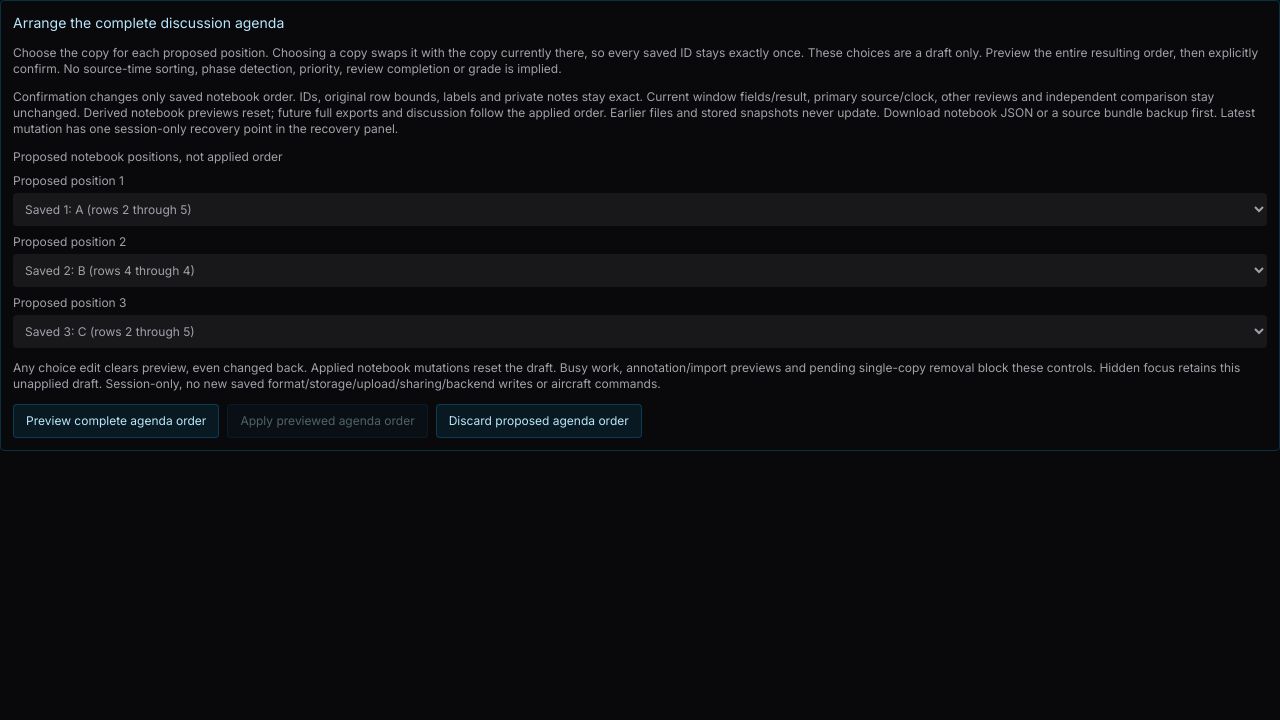
Test: complete agenda draft preview and confirmation › failed application preserves draft/preview and reports no success
Select "Saved 3: C (rows 2 through 5)" in the dropdown named "Proposed agenda position 1" at (640, 210), box x1=13 y1=193 x2=1267 y2=226
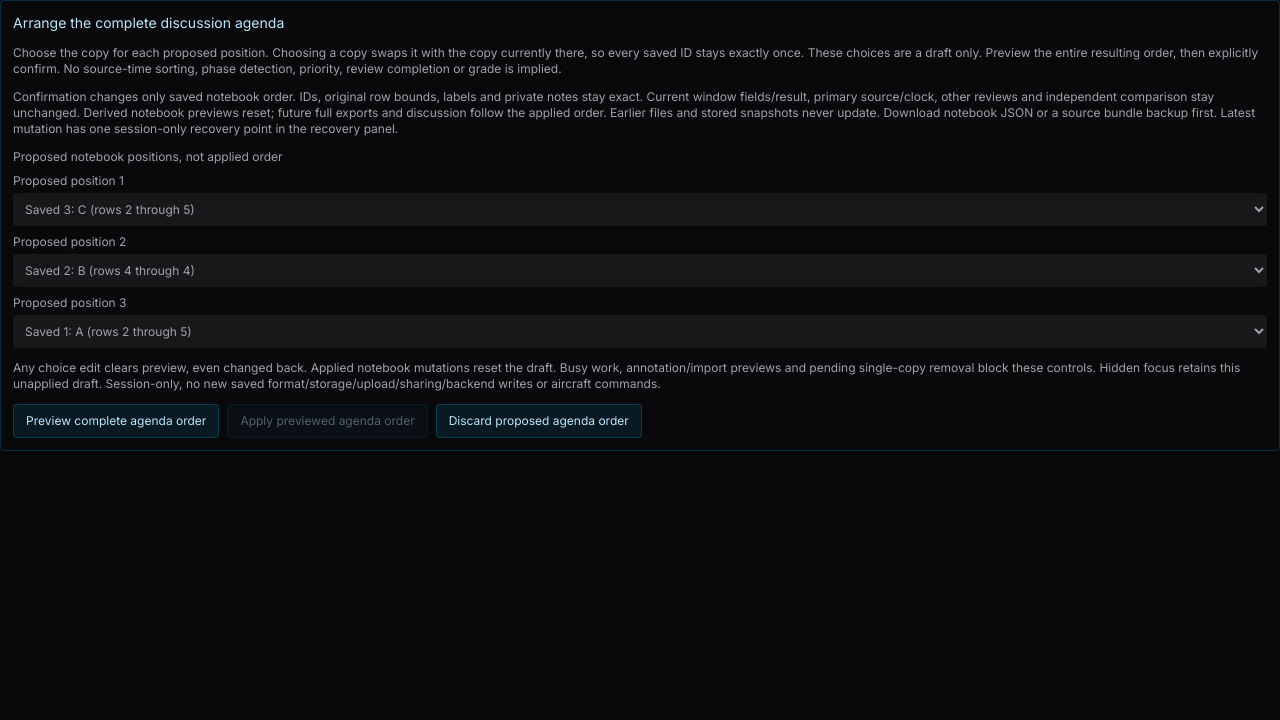
Click the button "Preview complete agenda order".
click(116, 421)  # box x1=13 y1=404 x2=219 y2=438
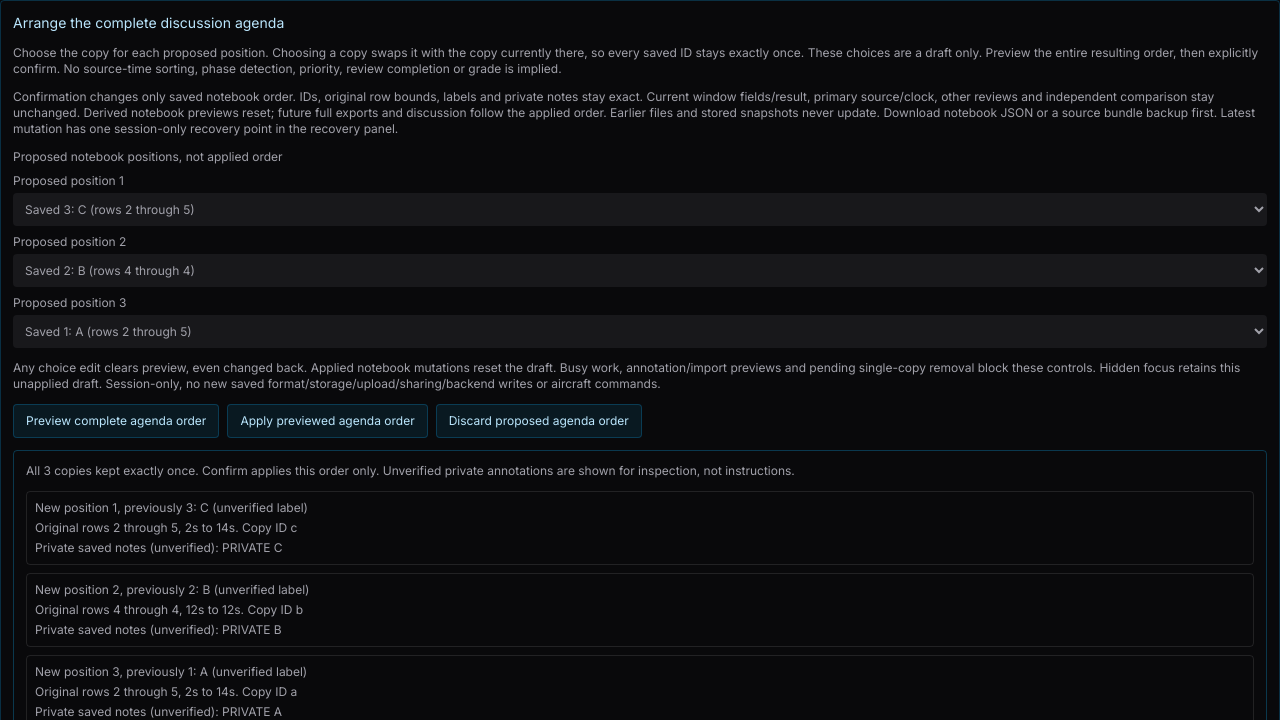
Click the button "Apply previewed agenda order".
click(328, 421)  # box x1=227 y1=404 x2=428 y2=438
(page scrolled)
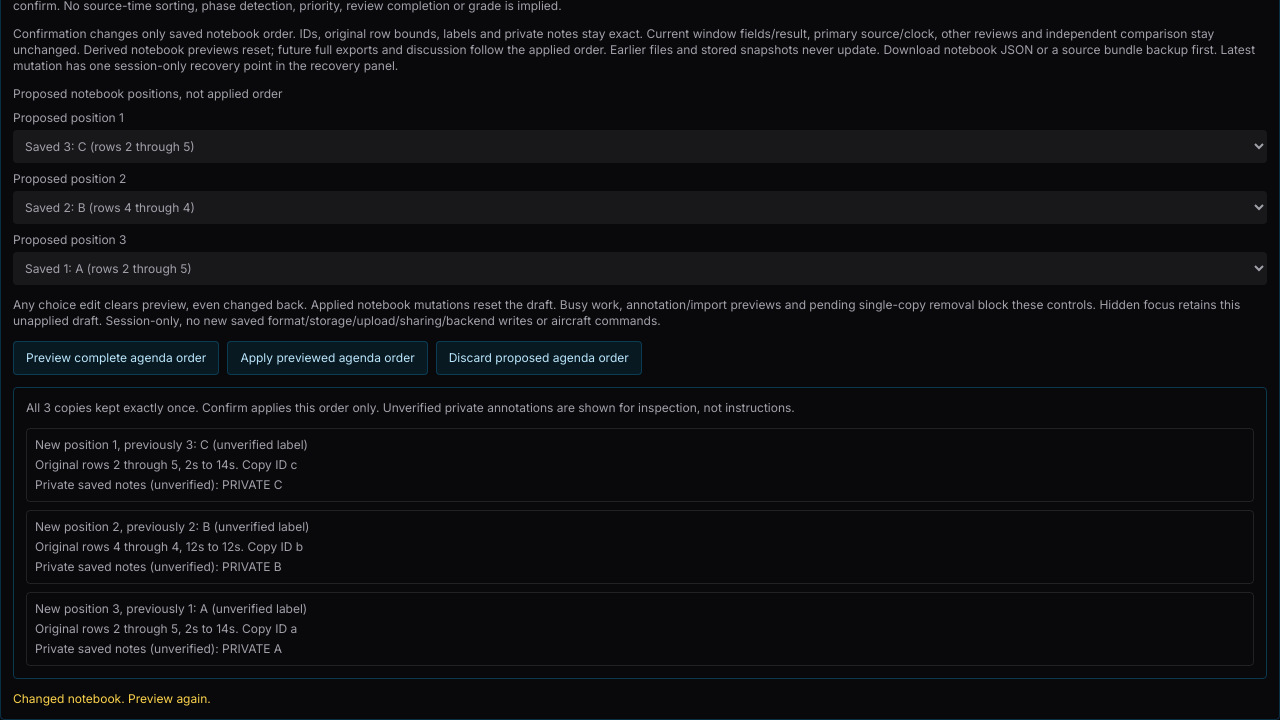
Expected: the element named "Complete agenda order preview" is shown, x1=13 y1=387 x2=1267 y2=679
Expected: the message shows "Changed notebook", x1=13 y1=691 x2=211 y2=706
